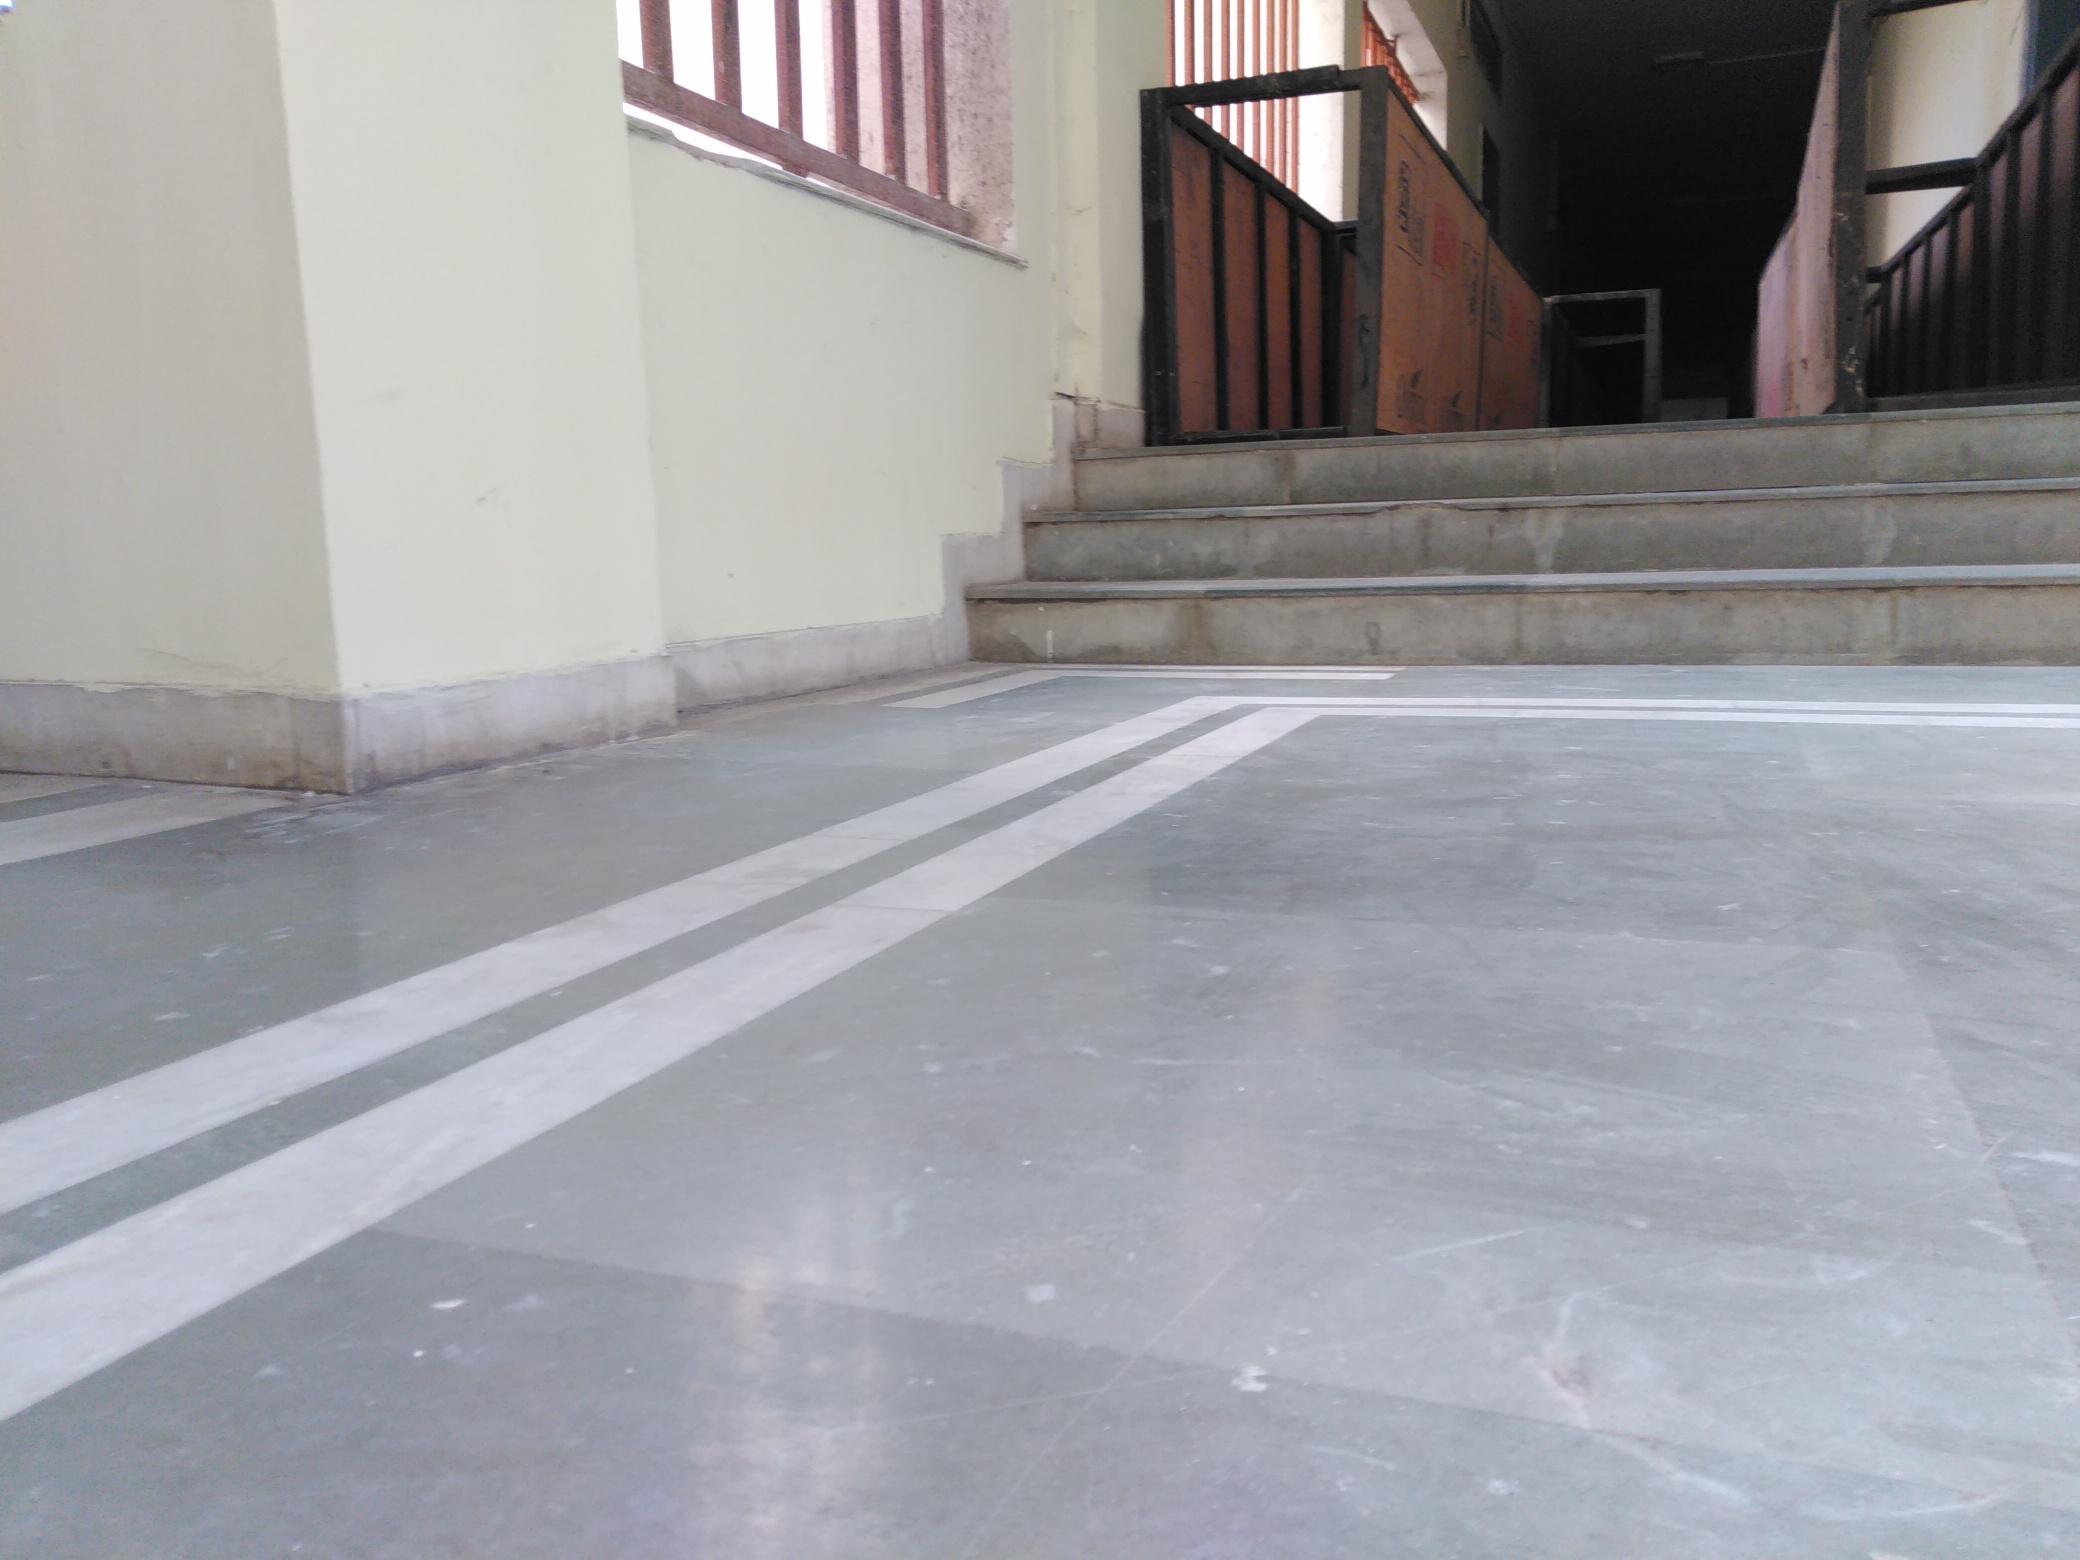stairs_up: (973, 429, 2080, 683)
